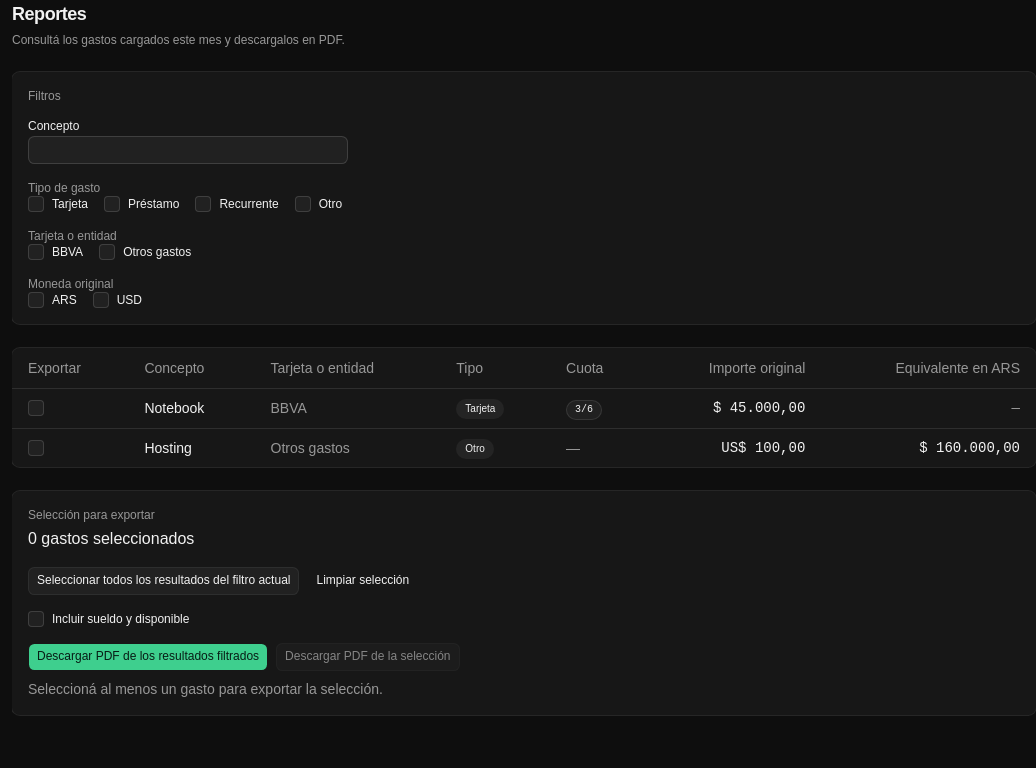
Scenario: ReportsPage › avisa si la generación del PDF falla
What coordinates should you click on to do the following:
click the button "Descargar PDF de los resultados filtrados"
I would click on:
 (148, 657)
Its box is [28,643,268,671].
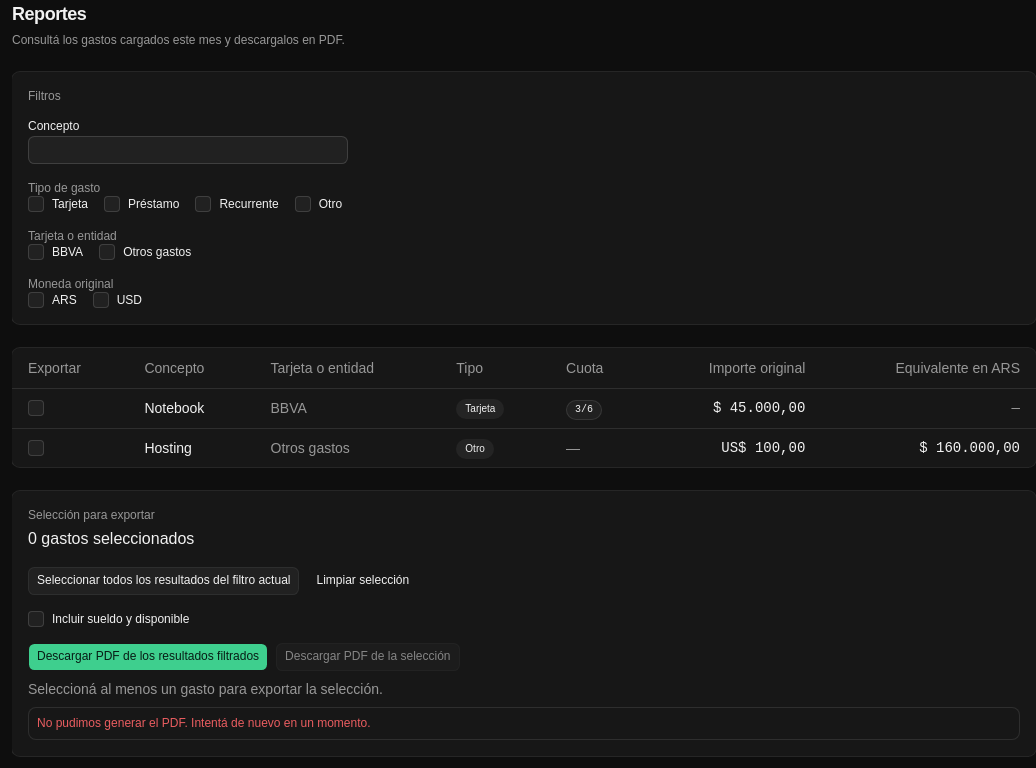
Now the text "No pudimos generar el PDF. Intentá de nuevo en un momento." is shown, box [37,716,370,730]
